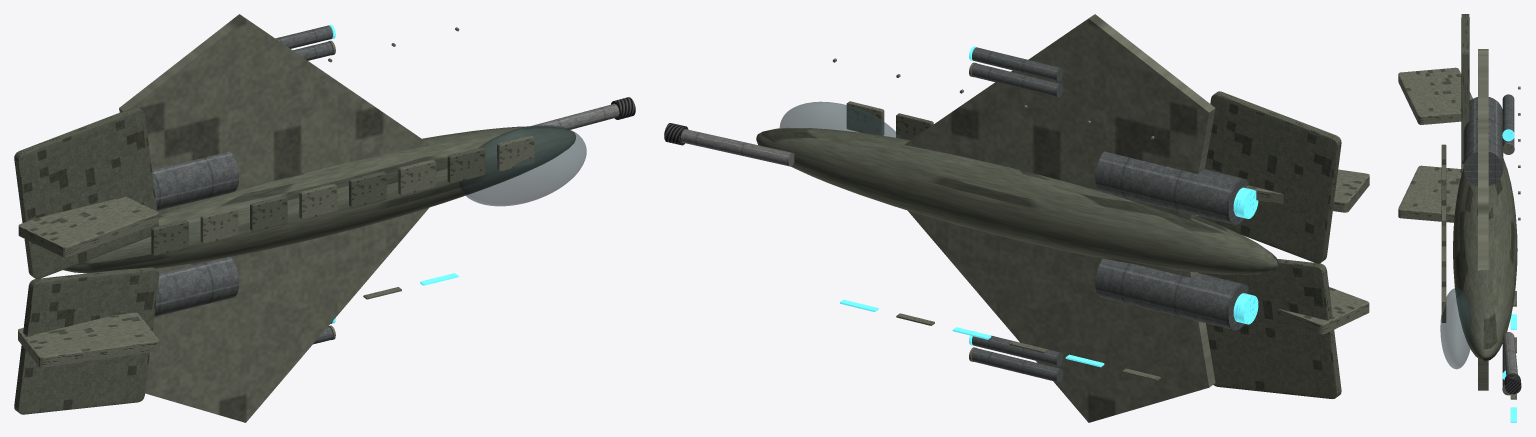
The model's file is v-u23-vanguard-interceptor-lod0.glb.
The picture shows the model from 3 angles, left to right: view 1: azimuth 30°, elevation 25°; view 2: azimuth 150°, elevation 25°; view 3: azimuth 270°, elevation 25°; orthographic projection. The views are drawn at different scales.
Visible parts, largest first — view 1: combat_main_wing, combat_fuselage, combat_tailplane_-1, combat_tailplane_1, combat_canopy, combat_fin_-1, combat_fin_1, combat_engine_1, combat_engine_0, airframe_panel_6, airframe_panel_1, airframe_panel_3 (+7 smaller); view 2: combat_main_wing, combat_fuselage, combat_tailplane_1, combat_tailplane_-1, combat_engine_0, combat_engine_1, combat_canopy, combat_fin_-1, combat_gun_barrel_0, combat_fin_1, combat_-1_tube_1, combat_1_tube_2 (+5 smaller); view 3: combat_fuselage, combat_fin_1, combat_main_wing, combat_fin_-1, combat_engine_1, combat_canopy, combat_tailplane_1, combat_gun_barrel_0, combat_1_tube_2, combat_gun_muzzle_0, airframe_panel_7.
Boxes of the visible parts, bbox=[...] form: combat_main_wing: bbox=[119, 14, 430, 422]; combat_fuselage: bbox=[63, 126, 575, 273]; combat_tailplane_-1: bbox=[14, 267, 159, 414]; combat_tailplane_1: bbox=[14, 107, 159, 279]; combat_canopy: bbox=[459, 125, 586, 206]; combat_fin_-1: bbox=[18, 312, 159, 367]; combat_fin_1: bbox=[18, 196, 158, 257]; combat_engine_1: bbox=[152, 151, 239, 210]; combat_engine_0: bbox=[154, 257, 239, 316]; airframe_panel_6: bbox=[447, 147, 485, 183]; airframe_panel_1: bbox=[200, 208, 238, 243]; airframe_panel_3: bbox=[299, 183, 337, 219]; combat_main_wing: bbox=[904, 14, 1215, 422]; combat_fuselage: bbox=[756, 127, 1278, 274]; combat_tailplane_1: bbox=[1197, 91, 1341, 263]; combat_tailplane_-1: bbox=[1198, 259, 1341, 398]; combat_engine_0: bbox=[1095, 258, 1248, 330]; combat_engine_1: bbox=[1095, 151, 1248, 224]; combat_canopy: bbox=[779, 101, 900, 138]; combat_fin_-1: bbox=[1277, 287, 1369, 334]; combat_gun_barrel_0: bbox=[681, 129, 794, 166]; combat_fin_1: bbox=[1245, 169, 1369, 212]; combat_-1_tube_1: bbox=[972, 348, 1063, 382]; combat_1_tube_2: bbox=[972, 47, 1063, 81]; combat_fuselage: bbox=[1453, 158, 1517, 361]; combat_fin_1: bbox=[1398, 67, 1472, 124]; combat_main_wing: bbox=[1478, 49, 1488, 390]; combat_fin_-1: bbox=[1398, 165, 1461, 222]; combat_engine_1: bbox=[1463, 97, 1503, 185]; combat_canopy: bbox=[1440, 288, 1470, 369]; combat_tailplane_1: bbox=[1461, 14, 1469, 163]; combat_gun_barrel_0: bbox=[1503, 332, 1517, 375]; combat_1_tube_2: bbox=[1502, 94, 1514, 132]; combat_gun_muzzle_0: bbox=[1504, 373, 1521, 394]; airframe_panel_7: bbox=[1441, 287, 1446, 322].
Size of what is drawn, in the model's own units: 12.82 by 7.66 by 2.5.
7 materials, 7 textured.
